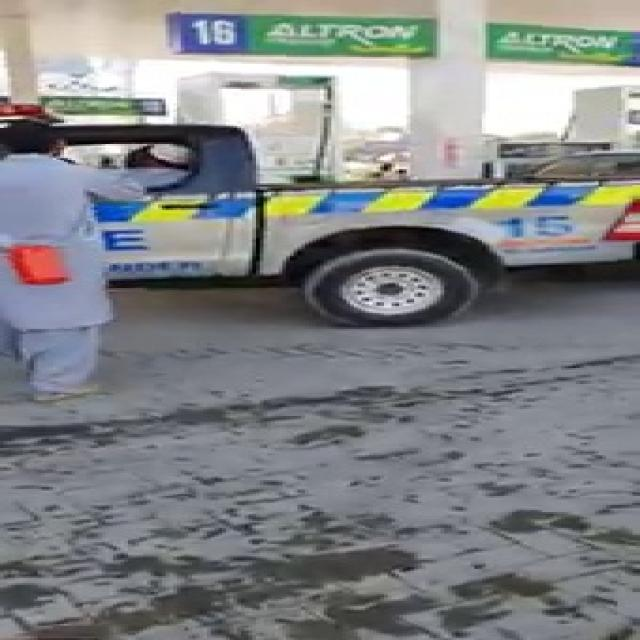police: (0, 129, 640, 331)
